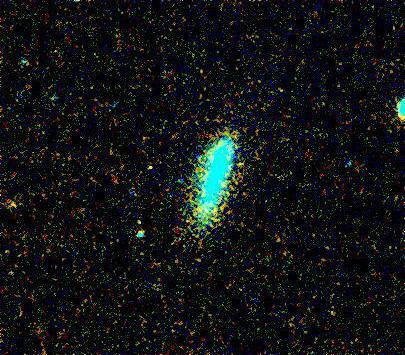star: (134, 153, 164, 183)
